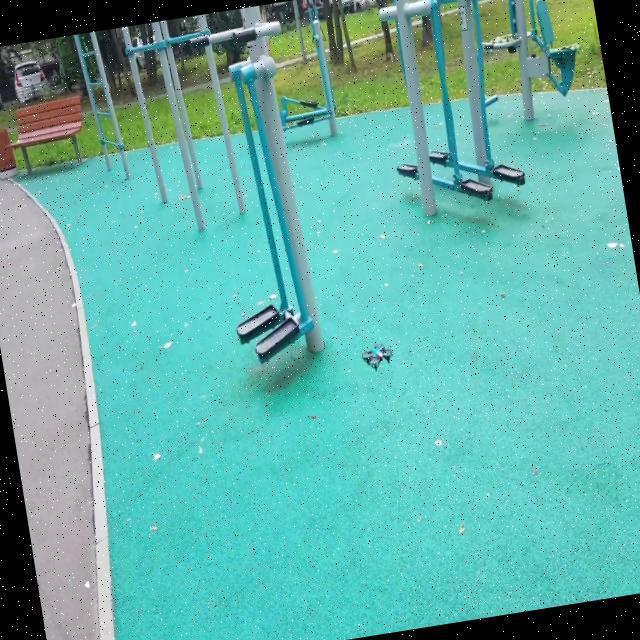Drons: (359, 340, 396, 374)
